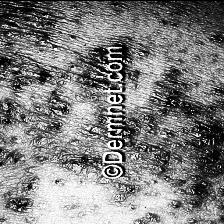Non-Cancerous Skin Condition: (0, 8, 94, 209), (136, 46, 224, 210)
